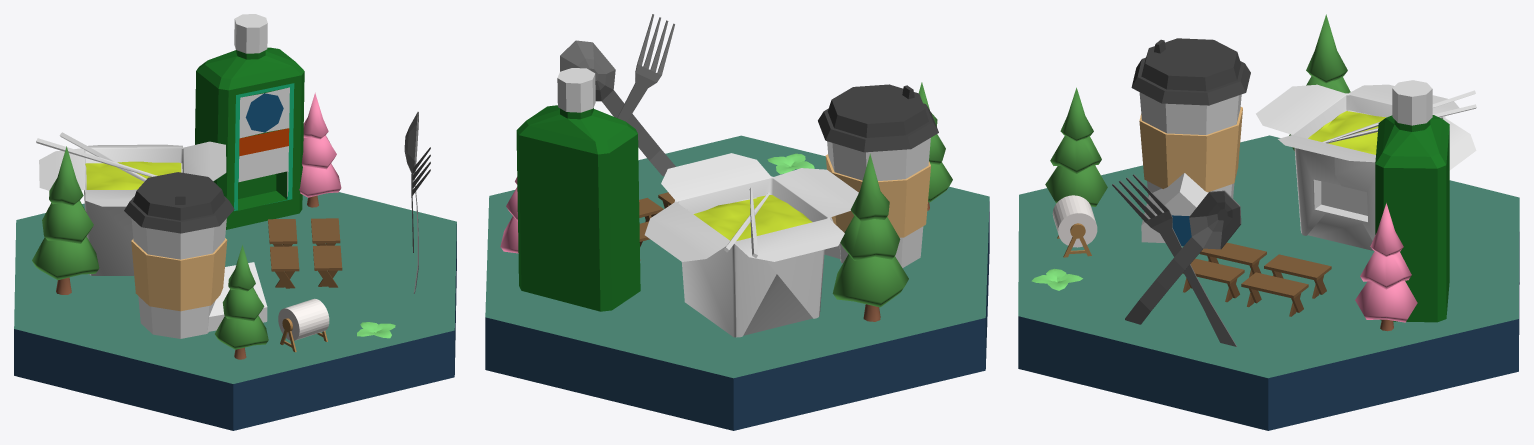
File: Macro - Restaurant lvl 3 WM2.fbx
3 views of the same model, side by side, from view 1: azimuth 30°, elevation 25°; view 2: azimuth 150°, elevation 25°; view 3: azimuth 270°, elevation 25° (orthographic). The views are drawn at different scales.
Parts seen in each view (by area): view 1: Cylinder.176, drink_001.001, coffee_001.002, Cube.108, Tree_Spruce_tiny_01.001, Tree_Spruce_tiny_01.002, Tree_Spruce_tiny_01.003, Cylinder.011, Cube.003, table.003, table.002, Plane.116 (+4 smaller); view 2: Cylinder.176, Cube.108, drink_001.001, coffee_001.002, Tree_Spruce_tiny_01.001, Plane.116, Plane.117, Tree_Spruce_tiny_01.002, Tree_Spruce_tiny_01.003, Plane.011; view 3: Cylinder.176, Cube.108, coffee_001.002, drink_001.001, Tree_Spruce_tiny_01.003, Plane.116, Tree_Spruce_tiny_01.002, Plane.117, Cube.003, Tree_Spruce_tiny_01.001, Cylinder.011, table.001 (+4 smaller).
Part boxes in pixels (x1=…): Cylinder.176: x1=14, y1=192, x2=456, y2=430; drink_001.001: x1=195, y1=14, x2=304, y2=229; coffee_001.002: x1=124, y1=172, x2=234, y2=338; Cube.108: x1=36, y1=132, x2=226, y2=275; Tree_Spruce_tiny_01.001: x1=32, y1=146, x2=99, y2=294; Tree_Spruce_tiny_01.002: x1=215, y1=245, x2=268, y2=359; Tree_Spruce_tiny_01.003: x1=299, y1=92, x2=341, y2=207; Cylinder.011: x1=278, y1=298, x2=329, y2=340; Cube.003: x1=207, y1=262, x2=267, y2=331; table.003: x1=270, y1=246, x2=299, y2=288; table.002: x1=313, y1=245, x2=342, y2=287; Plane.116: x1=404, y1=111, x2=418, y2=293; Cylinder.176: x1=485, y1=135, x2=989, y2=430; Cube.108: x1=644, y1=153, x2=858, y2=337; drink_001.001: x1=516, y1=68, x2=640, y2=311; coffee_001.002: x1=818, y1=84, x2=938, y2=267; Tree_Spruce_tiny_01.001: x1=832, y1=153, x2=908, y2=321; Plane.116: x1=560, y1=40, x2=675, y2=176; Plane.117: x1=617, y1=14, x2=674, y2=122; Tree_Spruce_tiny_01.002: x1=919, y1=82, x2=952, y2=210; Tree_Spruce_tiny_01.003: x1=500, y1=177, x2=518, y2=253; Plane.011: x1=767, y1=153, x2=814, y2=174; Cylinder.176: x1=1018, y1=135, x2=1519, y2=430; Cube.108: x1=1256, y1=84, x2=1476, y2=250; coffee_001.002: x1=1131, y1=38, x2=1250, y2=197; drink_001.001: x1=1375, y1=80, x2=1449, y2=322; Tree_Spruce_tiny_01.003: x1=1355, y1=203, x2=1417, y2=331; Plane.116: x1=1125, y1=190, x2=1241, y2=324; Tree_Spruce_tiny_01.002: x1=1045, y1=87, x2=1107, y2=206; Plane.117: x1=1112, y1=174, x2=1236, y2=346; Cube.003: x1=1141, y1=173, x2=1208, y2=243; Tree_Spruce_tiny_01.001: x1=1289, y1=14, x2=1350, y2=151; Cylinder.011: x1=1052, y1=195, x2=1097, y2=247; table.001: x1=1241, y1=272, x2=1308, y2=316.
Bounding box in the file's own units: 197 × 101 × 172.
